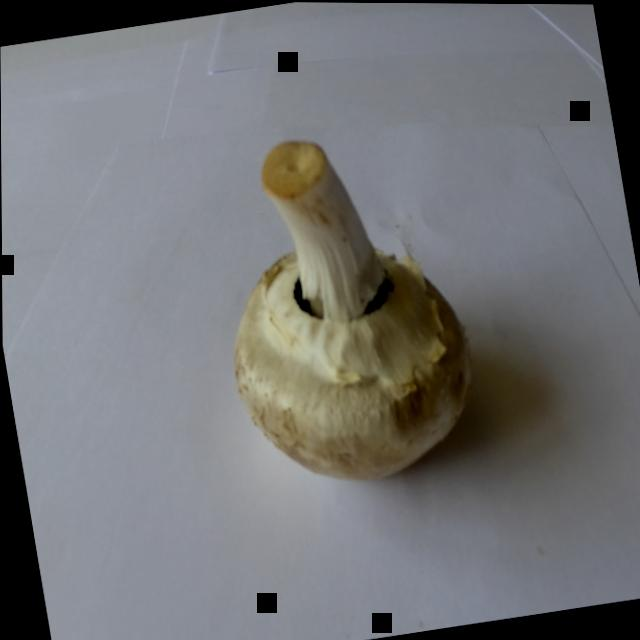Buttonmushroom: (173, 94, 498, 534)
